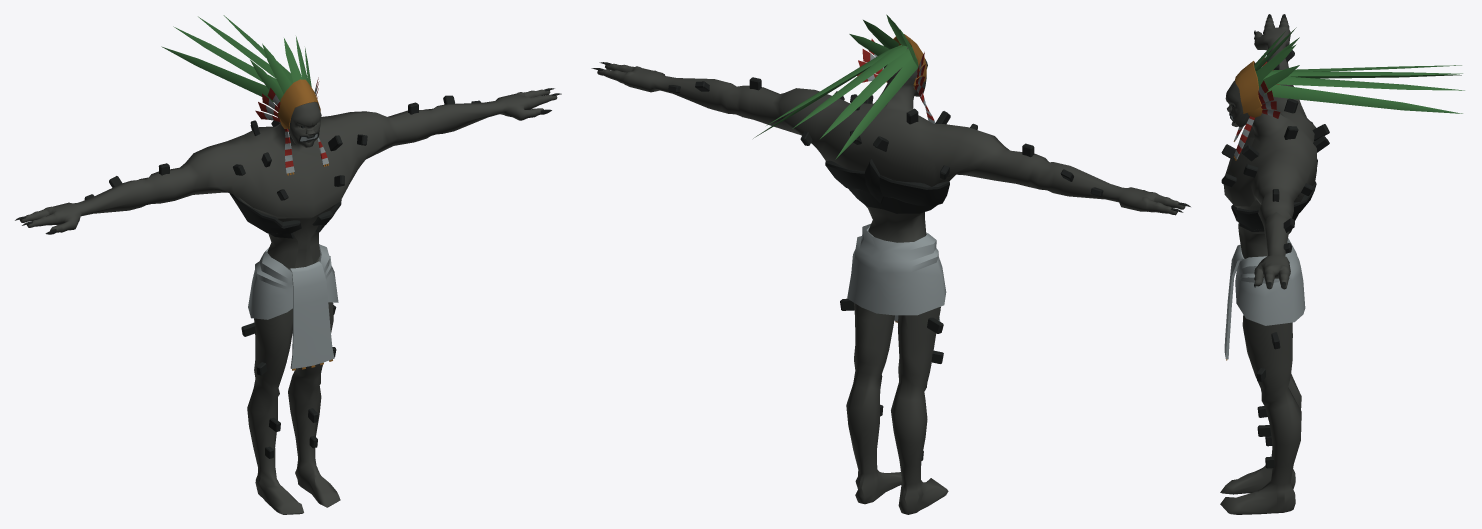
The model's file is Golem_0.1.fbx.
The picture shows the model from 3 angles, left to right: view 1: azimuth 30°, elevation 25°; view 2: azimuth 150°, elevation 25°; view 3: azimuth 270°, elevation 25°; orthographic projection. The views are drawn at different scales.
Parts seen in each view (by area): view 1: BODY2, DEETS; view 2: BODY2, DEETS; view 3: BODY2, DEETS.
Boxes of the visible parts, <box> form: BODY2: <box>15,88,561,514</box>; DEETS: <box>84,15,480,458</box>; BODY2: <box>591,47,1190,514</box>; DEETS: <box>668,14,1103,460</box>; BODY2: <box>1220,14,1316,514</box>; DEETS: <box>1221,27,1464,468</box>.
Bounding box in the file's own units: 3.04 × 2.42 × 1.16.
